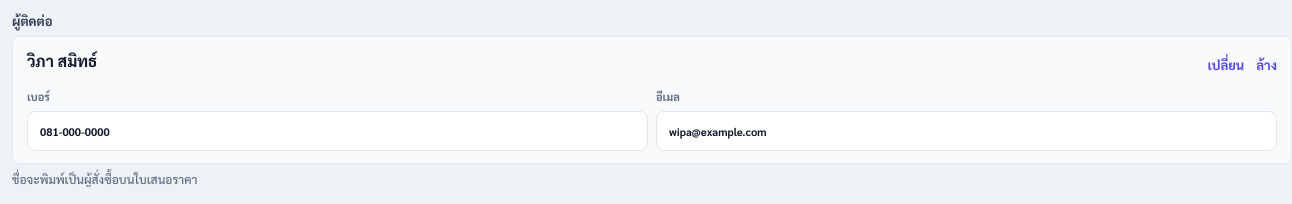
Test: QuotationContactPicker — edit-in-place โทร./อีเมล › rolls back and shows a toast when the save is refused
Replace the text in the field named "แก้ไขอีเมลผู้ติดต่อ" with "broken@example.com": (966, 131) x1=656 y1=111 x2=1277 y2=151
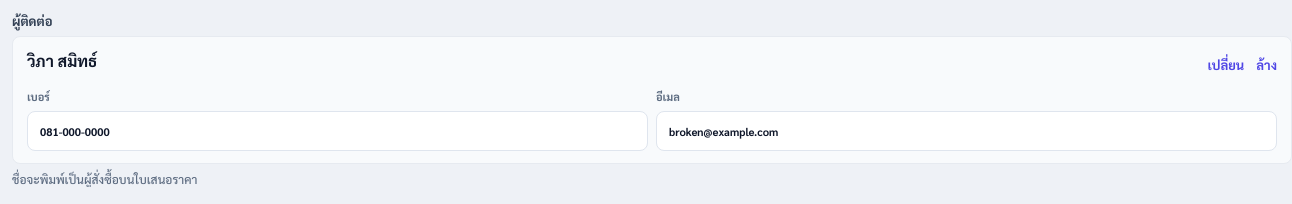
Leave the field named "แก้ไขอีเมลผู้ติดต่อ", box x1=656 y1=111 x2=1277 y2=151
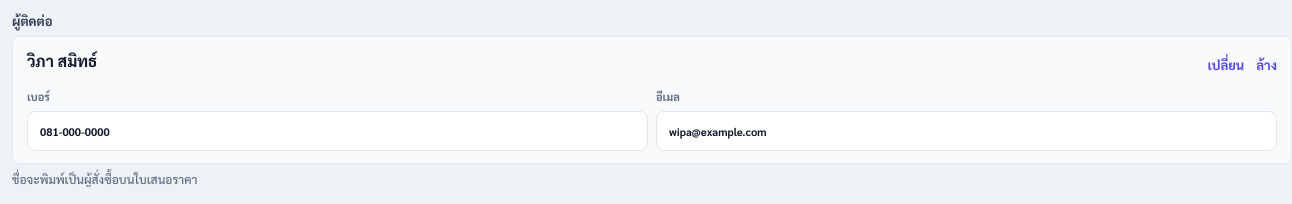
Now the field named "แก้ไขอีเมลผู้ติดต่อ" holds "wipa@example.com", box x1=656 y1=111 x2=1277 y2=151
